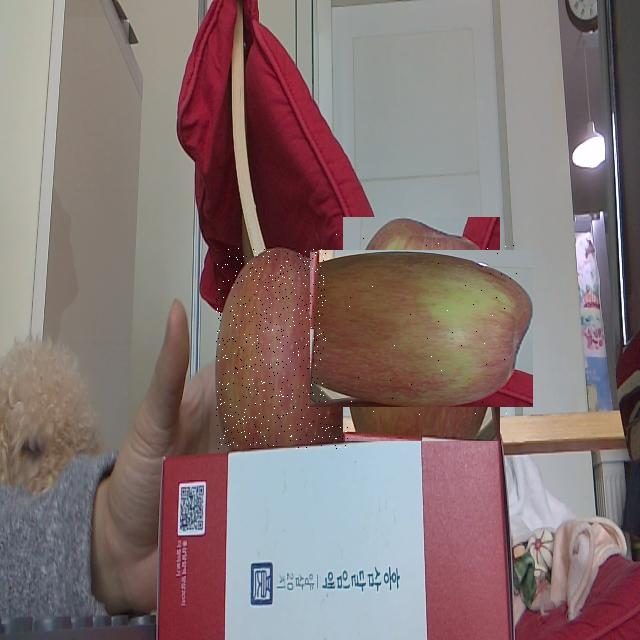apple: (326, 234, 517, 424), (216, 248, 350, 449)
